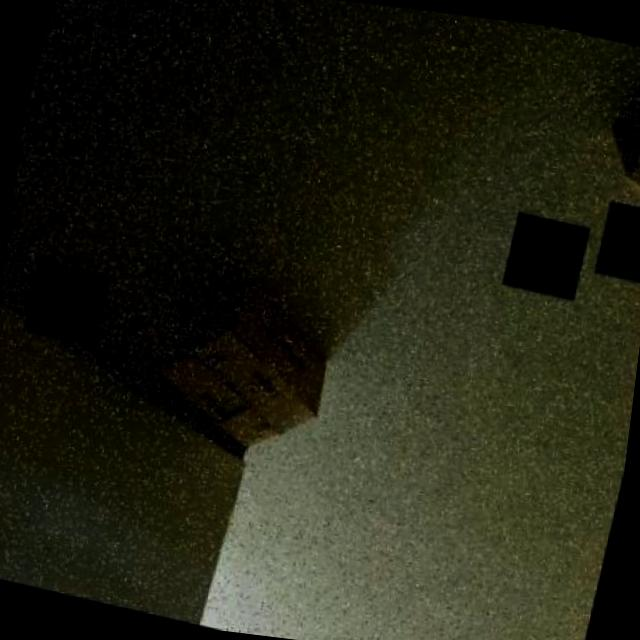box: (128, 250, 360, 492)
